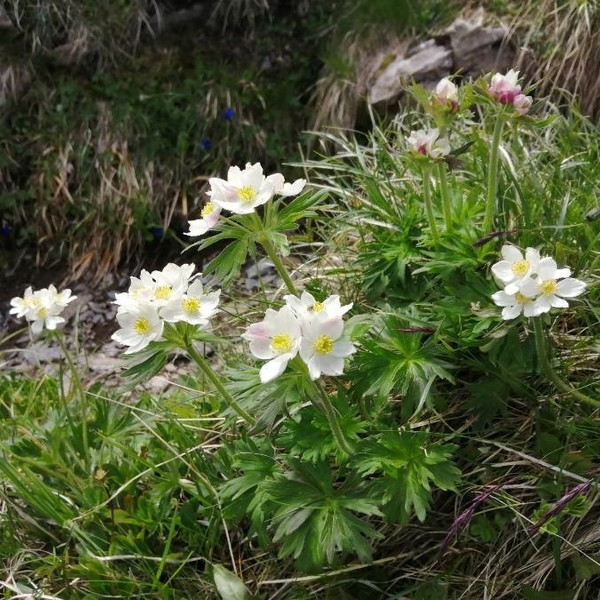obstacle: (32, 170, 516, 549)
